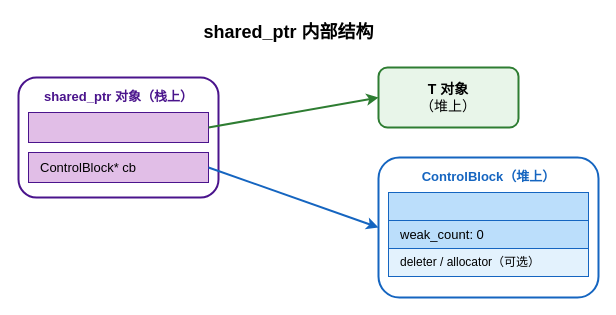
Some shapes in this 616 by 315 pixel diagram are drawn without their labels. Here are the shapes that lost their labels. From the top down, the centre of each, then its label:
the point at 118,127: T* ptr
the point at 488,206: strong_count: 2
